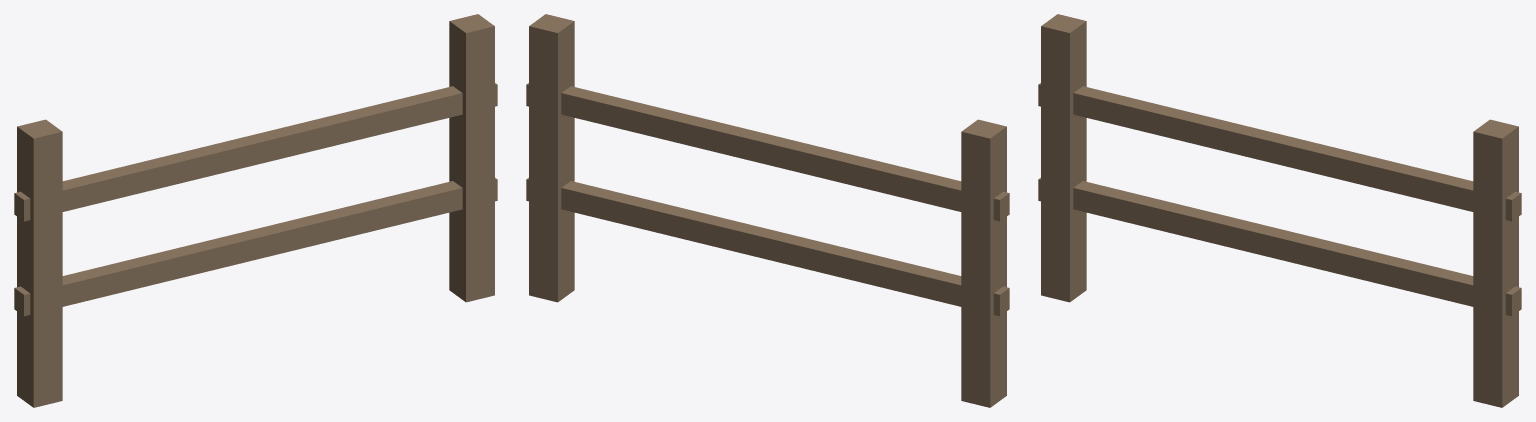
Rendered from fence.fbx.
The picture shows the model from 3 angles, left to right: view 1: azimuth 30°, elevation 25°; view 2: azimuth 150°, elevation 25°; view 3: azimuth 330°, elevation 25°; orthographic projection.
Visible parts, largest first — view 1: fence; view 2: fence; view 3: fence.
Part boxes in pixels (box(x1,y1,x2,y2)): fence: box(14, 14, 497, 407); fence: box(526, 14, 1009, 407); fence: box(1038, 14, 1521, 407).
Bounding box in the file's own units: 230 × 125 × 14.
